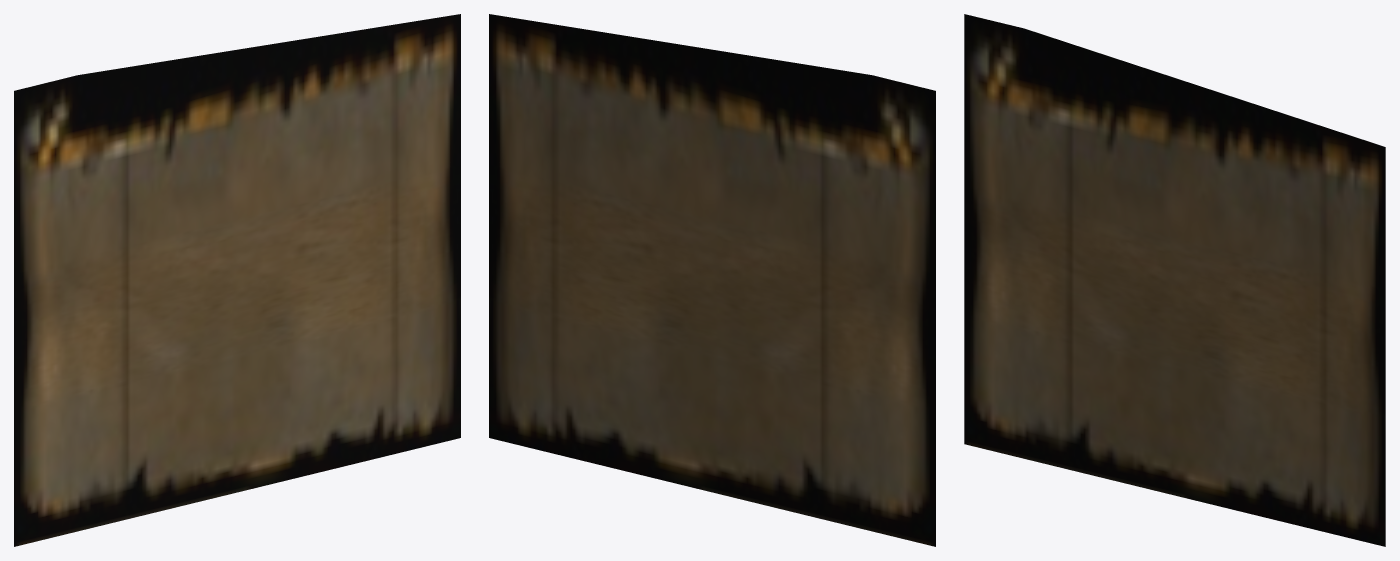
Rendered from new_work_quest_icon.fbx.
3 renders of one model, left to right at view 1: azimuth 30°, elevation 25°; view 2: azimuth 150°, elevation 25°; view 3: azimuth 330°, elevation 25°, orthographic. The views are drawn at different scales.
Visible parts, largest first — view 1: new_work_quest_icon; view 2: new_work_quest_icon; view 3: new_work_quest_icon.
Part boxes in pixels (bbox=[...]): new_work_quest_icon: bbox=[14, 14, 460, 546]; new_work_quest_icon: bbox=[489, 14, 935, 546]; new_work_quest_icon: bbox=[964, 14, 1385, 546].
Size of the model in its own units: 94.63 by 92.35 by 1.5e-05.
Materials: 1 (1 with a texture image).
